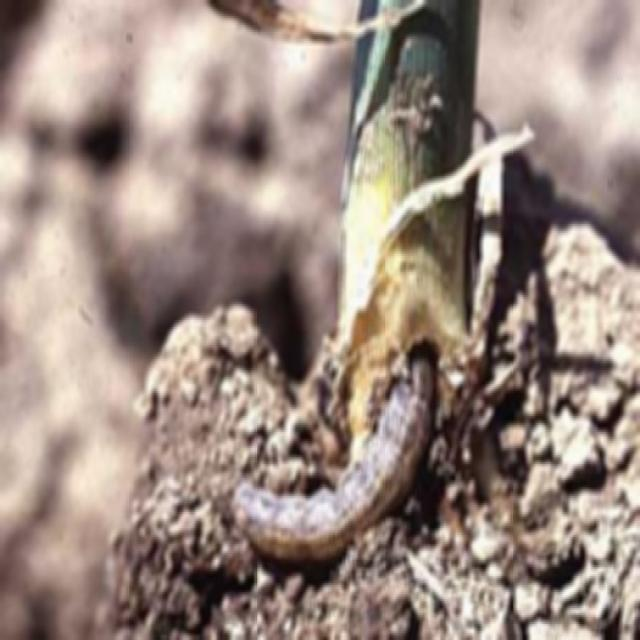black cutworm: (232, 367, 433, 570)
